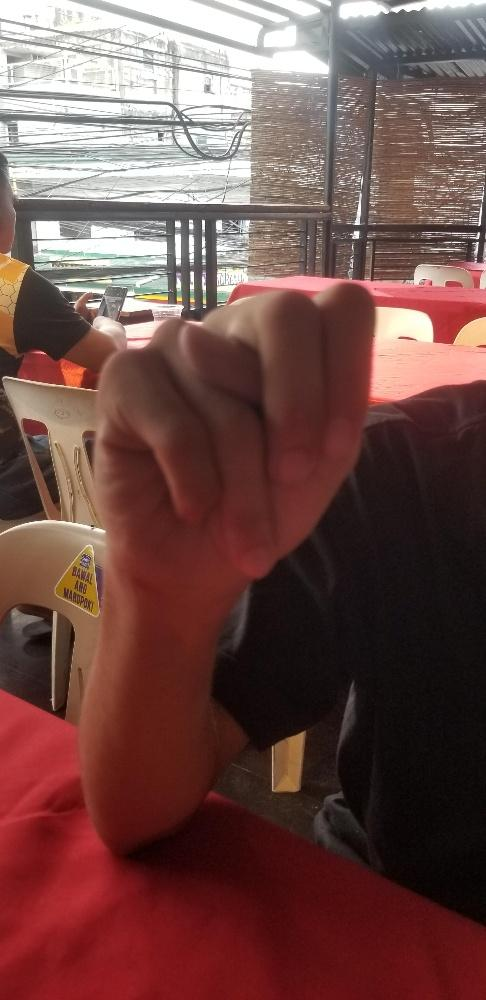n: (88, 275, 376, 594)
